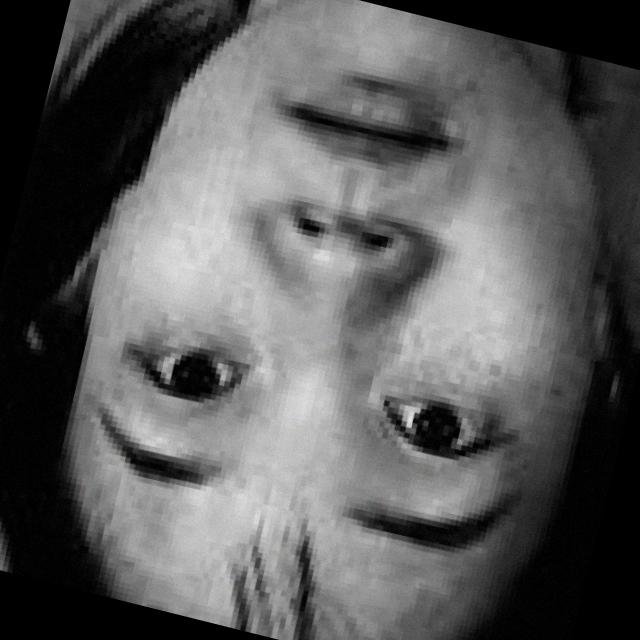surprise: (28, 0, 625, 640)
